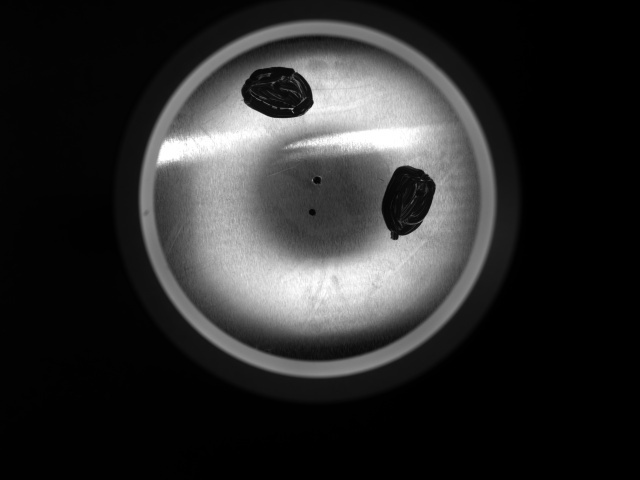zang_wu: (239, 65, 317, 120), (380, 165, 437, 240)
zhen_kong: (310, 171, 325, 187), (305, 205, 319, 216)
